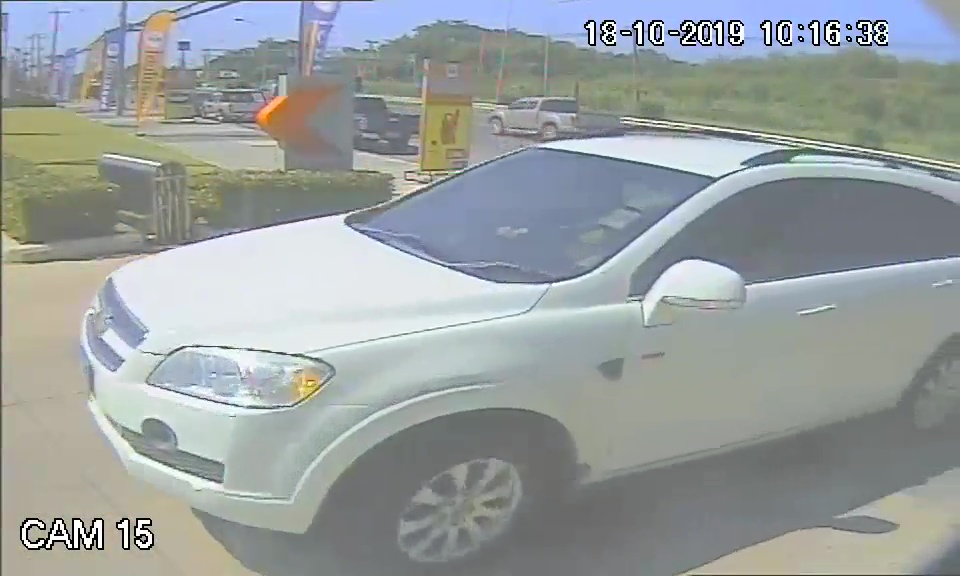pickup: (70, 123, 960, 539)
